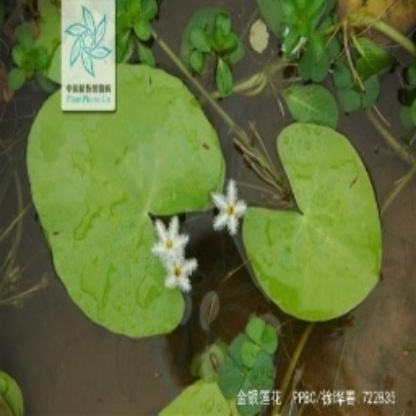leaf: (244, 124, 388, 321)
